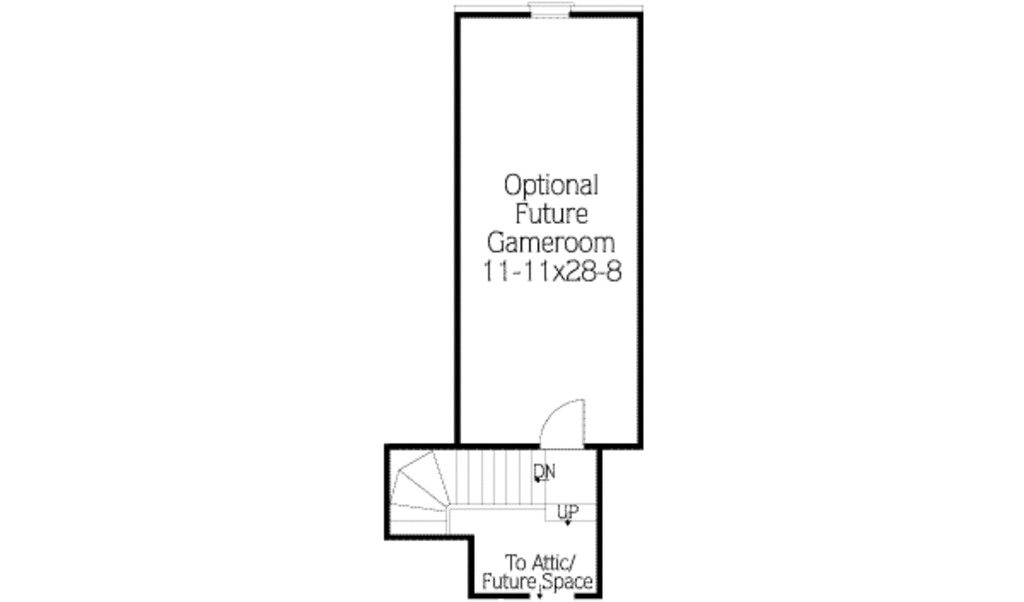door: (541, 397, 590, 447)
stairs: (388, 447, 546, 536)
window: (529, 2, 577, 19)
